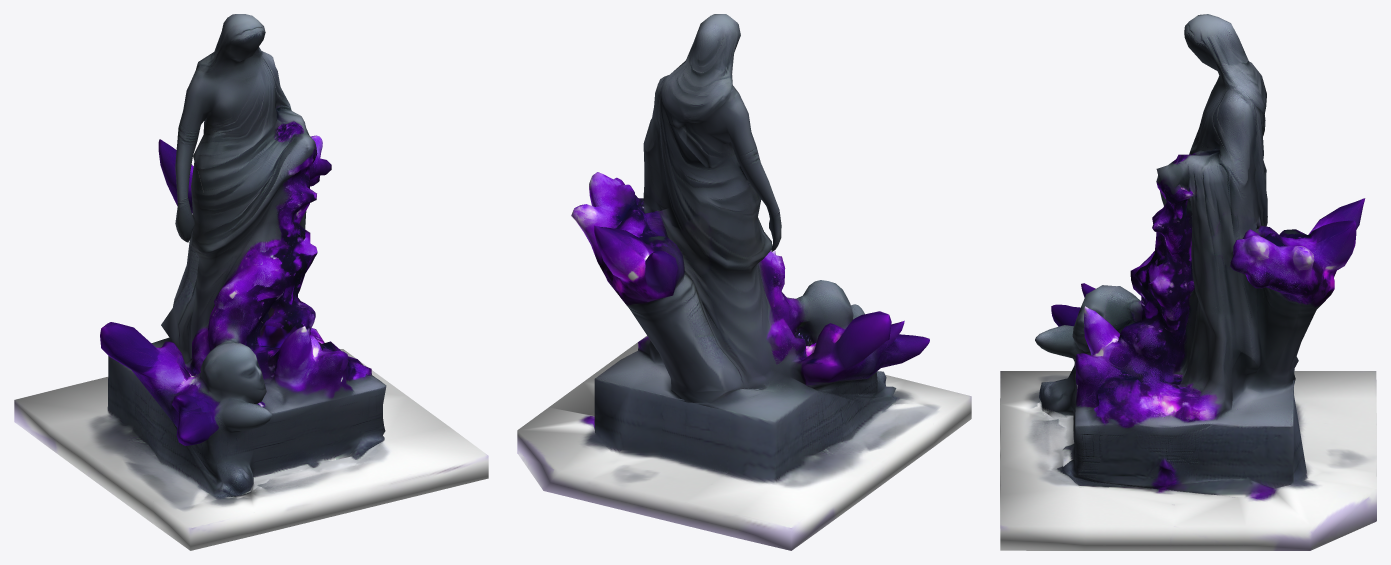
File: z2_statue.glb
The picture shows the model from 3 angles, left to right: view 1: azimuth 30°, elevation 25°; view 2: azimuth 150°, elevation 25°; view 3: azimuth 270°, elevation 25°; orthographic projection. The views are drawn at different scales.
Size of the model in its own units: 1.41 by 1.91 by 1.42.
1 material, 1 textured.
